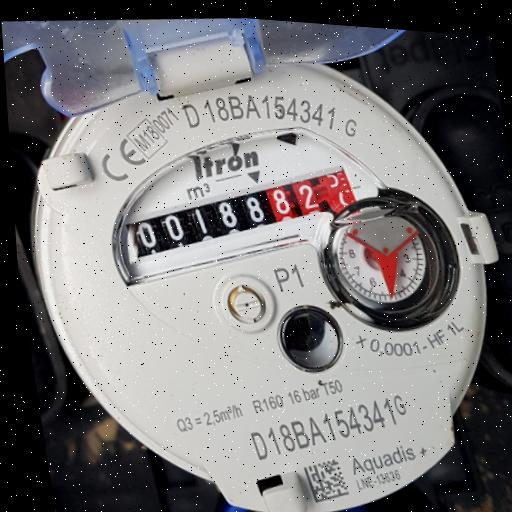0: (130, 214, 167, 259), (159, 208, 195, 252)
1: (185, 200, 224, 245)
2: (289, 176, 324, 219)
5: (316, 167, 359, 217)
8: (213, 194, 251, 239), (263, 181, 301, 224), (239, 187, 276, 231)
border_water_meter_number: (117, 152, 370, 286)
